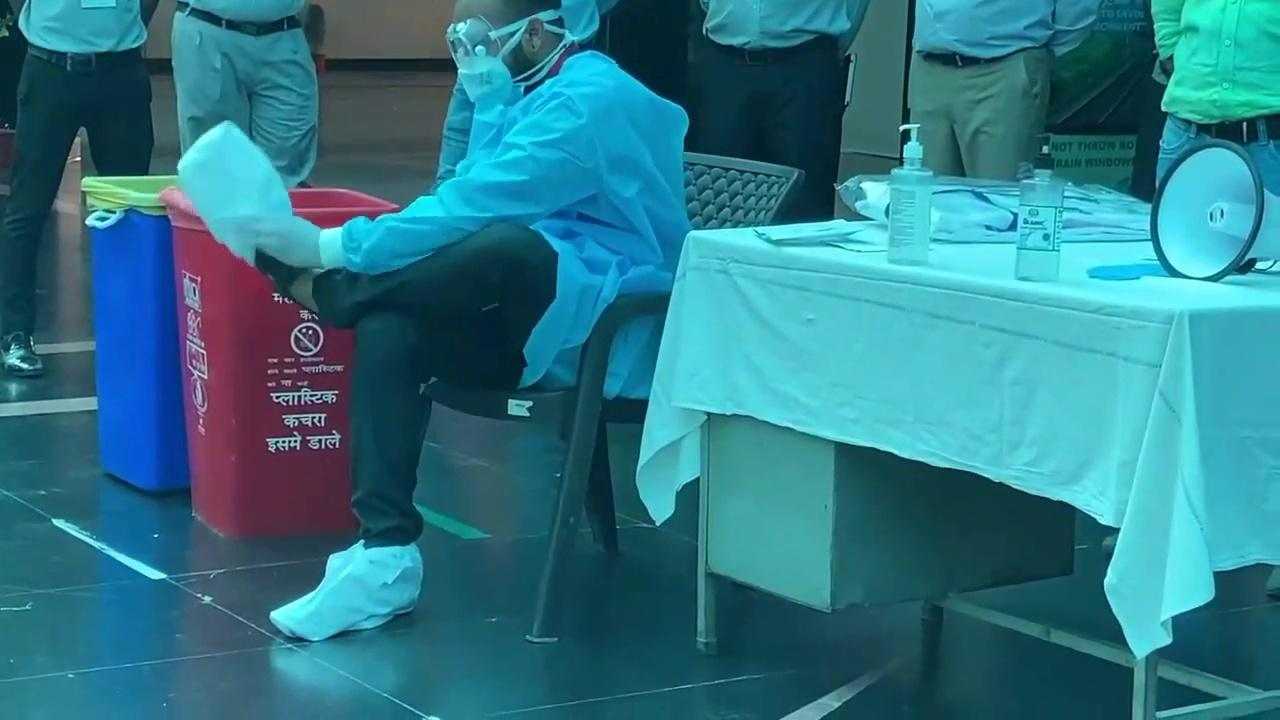Gloves On: (255, 215, 325, 268)
Goggles On: (445, 10, 568, 61)
Mask On: (458, 48, 515, 104)
Suit On: (312, 52, 690, 549)
